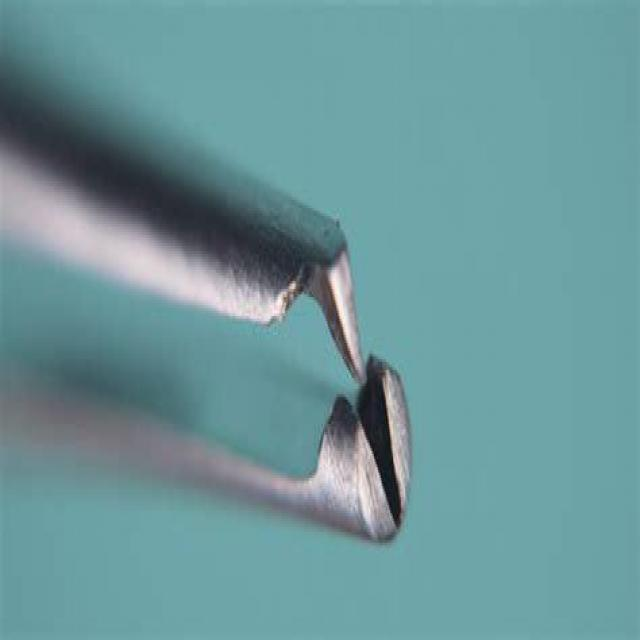Forceps: (0, 38, 416, 551)
